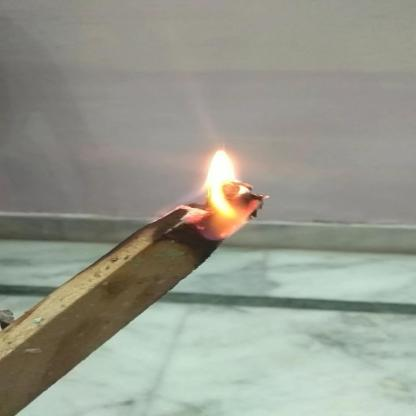fire: (177, 143, 271, 238)
